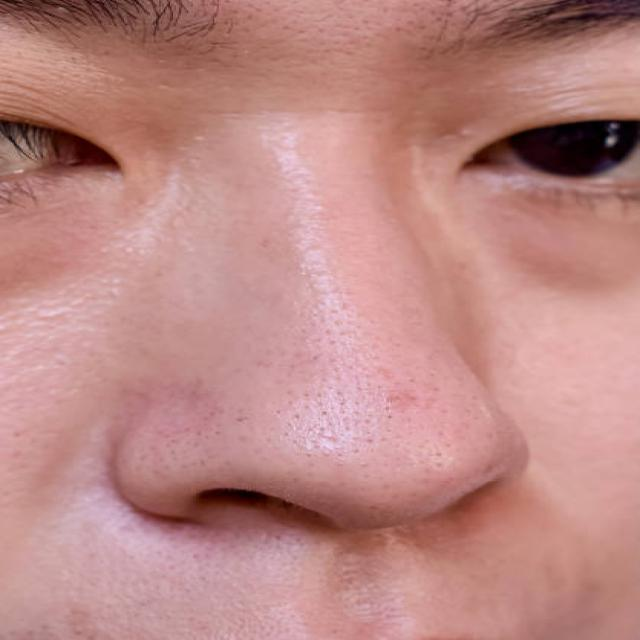Dry-Skin: (61, 234, 327, 439), (196, 547, 640, 640), (449, 247, 633, 448)
